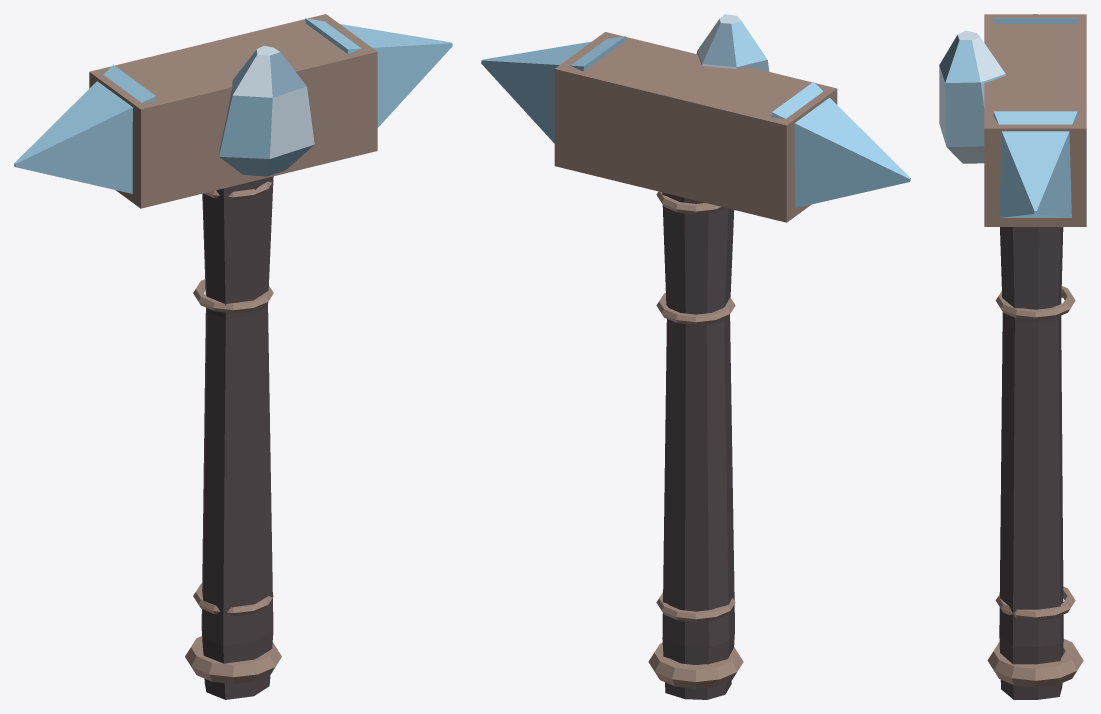
File: BH_PICK_P04_Picareta_de_Cristal_Brumoso_V01.glb
The picture shows the model from 3 angles, left to right: view 1: azimuth 30°, elevation 25°; view 2: azimuth 150°, elevation 25°; view 3: azimuth 270°, elevation 25°; orthographic projection. The views are drawn at different scales.
Visible parts, largest first — view 1: Handle | shaped shaft.001, Head | main crossbar.001, Head | inset mineral.001, Head | mining tooth L.001, Head | mining tooth R.001, Handle | pommel.001, Handle | binding 3.001, Handle | binding 1.001; view 2: Head | main crossbar.001, Handle | shaped shaft.001, Head | mining tooth L.001, Head | mining tooth R.001, Head | inset mineral.001, Handle | pommel.001, Handle | binding 3.001, Handle | binding 1.001, Handle | binding 5.001; view 3: Handle | shaped shaft.001, Head | main crossbar.001, Head | mining tooth R.001, Head | inset mineral.001, Handle | pommel.001, Handle | binding 3.001, Handle | binding 1.001, Head | mining tooth L.001.
Part boxes in pixels (<box>): Handle | shaped shaft.001: <box>201,176,273,699</box>; Head | main crossbar.001: <box>89,14,377,208</box>; Head | inset mineral.001: <box>219,46,314,176</box>; Head | mining tooth L.001: <box>14,65,155,193</box>; Head | mining tooth R.001: <box>305,18,452,127</box>; Handle | pommel.001: <box>185,636,281,684</box>; Handle | binding 3.001: <box>193,279,273,313</box>; Handle | binding 1.001: <box>193,583,273,616</box>; Head | main crossbar.001: <box>554,32,837,222</box>; Handle | shaped shaft.001: <box>662,192,734,699</box>; Head | mining tooth L.001: <box>771,82,910,208</box>; Head | mining tooth R.001: <box>481,36,625,143</box>; Head | inset mineral.001: <box>696,14,769,71</box>; Handle | pommel.001: <box>648,642,743,688</box>; Handle | binding 3.001: <box>656,293,735,325</box>; Handle | binding 1.001: <box>656,592,735,622</box>; Handle | binding 5.001: <box>656,191,725,214</box>; Handle | shaped shaft.001: <box>999,227,1063,699</box>; Head | main crossbar.001: <box>984,14,1086,226</box>; Head | mining tooth R.001: <box>993,111,1077,217</box>; Head | inset mineral.001: <box>939,30,1005,163</box>; Handle | pommel.001: <box>987,639,1083,687</box>; Handle | binding 3.001: <box>995,286,1075,320</box>; Handle | binding 1.001: <box>995,586,1075,620</box>; Head | mining tooth L.001: <box>993,14,1077,23</box>.
Bounding box in the file's own units: 1.66 × 2.39 × 0.4905.
